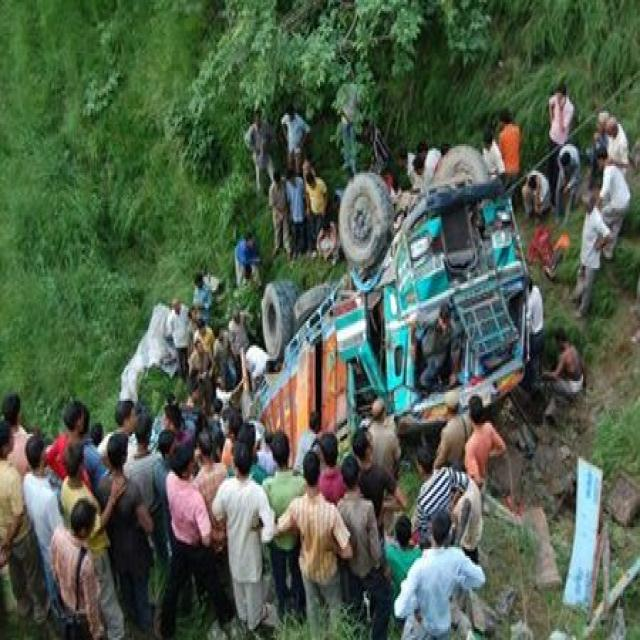accident: (260, 146, 530, 445)
